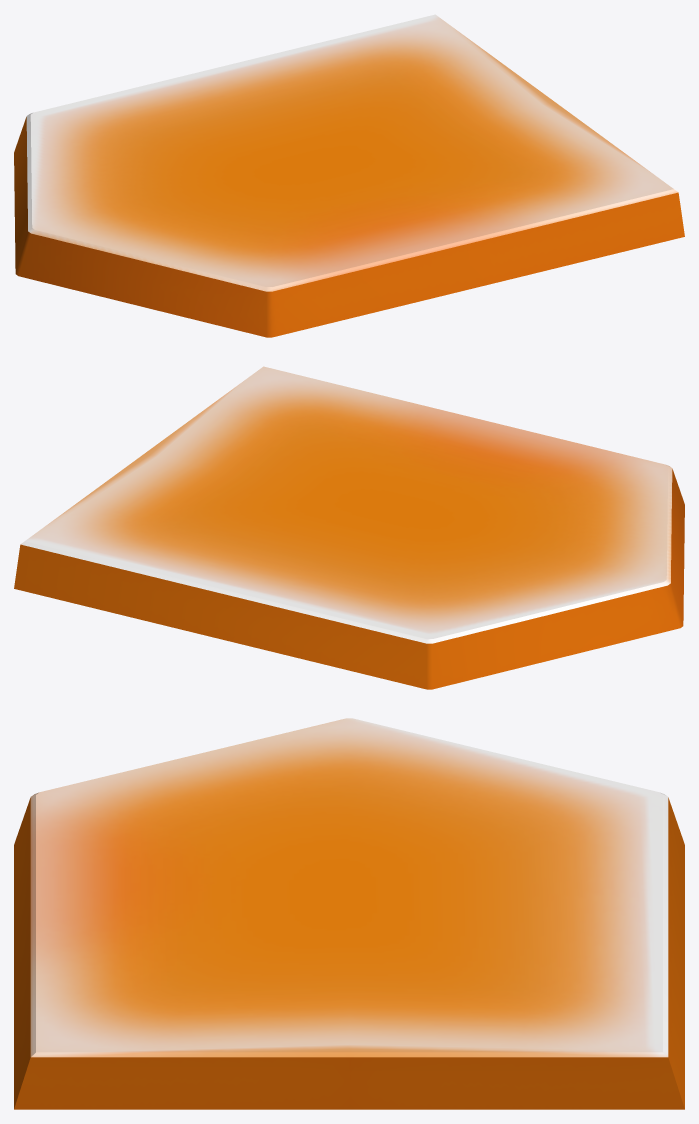
The picture shows the model from 3 angles, top to bottom: view 1: azimuth 30°, elevation 25°; view 2: azimuth 150°, elevation 25°; view 3: azimuth 270°, elevation 25°; orthographic projection. The views are drawn at different scales.
Parts seen in each view (by area): view 1: ys_fx; view 2: ys_fx; view 3: ys_fx.
Boxes of the visible parts, x1,y1,x2,y2 form: ys_fx: (14,14,684,337); ys_fx: (14,366,684,689); ys_fx: (14,718,684,1109).
Bounding box in the file's own units: 86.64 × 6.46 × 70.95.
1 material, 1 textured.
